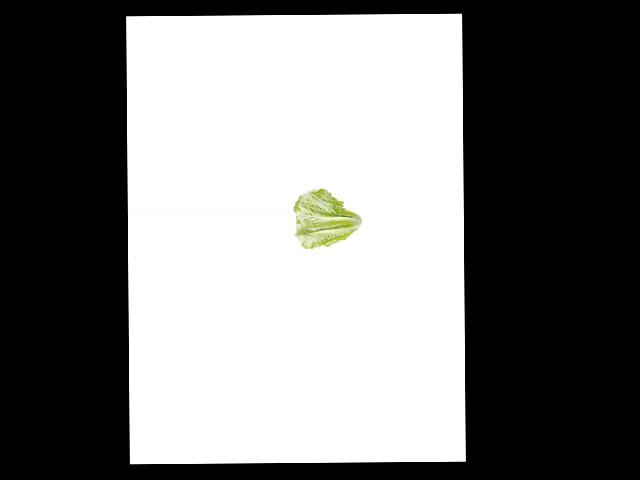lettuce: (292, 186, 365, 246)
